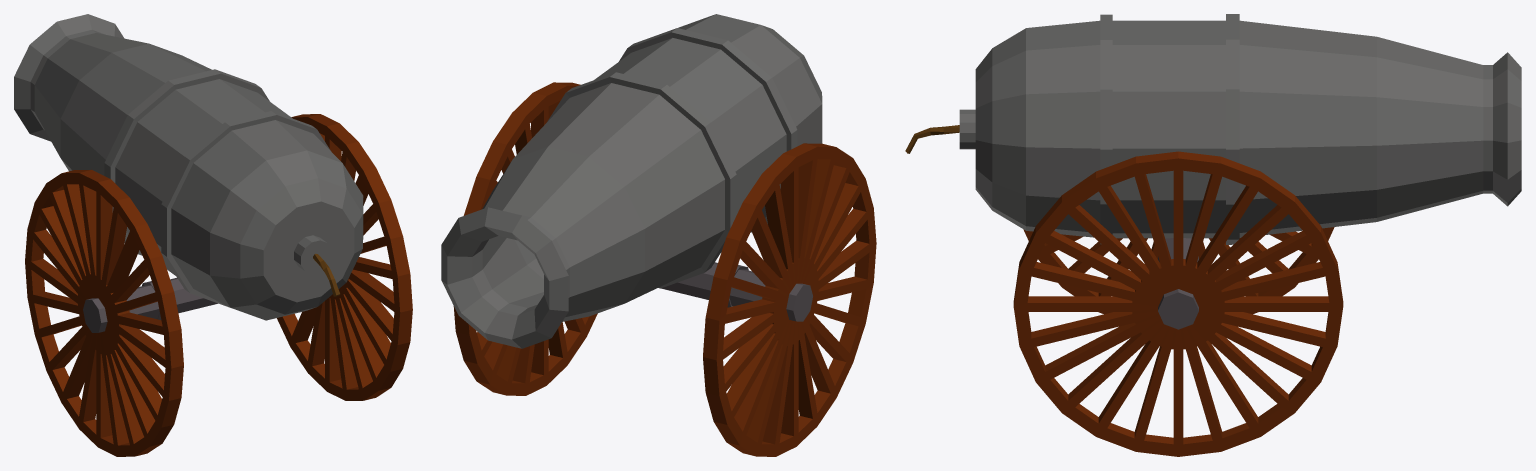
Rendered from BasicAhCannon.fbx.
The picture shows the model from 3 angles, left to right: view 1: azimuth 30°, elevation 25°; view 2: azimuth 150°, elevation 25°; view 3: azimuth 270°, elevation 25°; orthographic projection. The views are drawn at different scales.
Visible parts, largest first — view 1: Cannon, Wheel 2, Wheel 1; view 2: Cannon, Wheel 2, Wheel 1; view 3: Cannon, Wheel 1, Wheel 2.
Boxes of the visible parts, <box> form: Cannon: <box>14,14,363,332</box>; Wheel 2: <box>25,169,183,456</box>; Wheel 1: <box>277,114,412,400</box>; Cannon: <box>441,14,822,348</box>; Wheel 2: <box>703,143,876,456</box>; Wheel 1: <box>453,82,597,395</box>; Cannon: <box>905,14,1521,329</box>; Wheel 1: <box>1013,151,1343,456</box>; Wheel 2: <box>1023,227,1334,314</box>.
Bounding box in the file's own units: 80 × 97.49 × 150.
